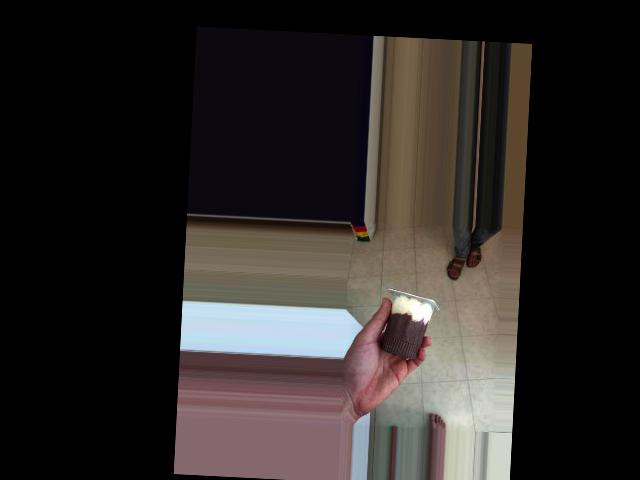milky: (384, 280, 429, 366)
